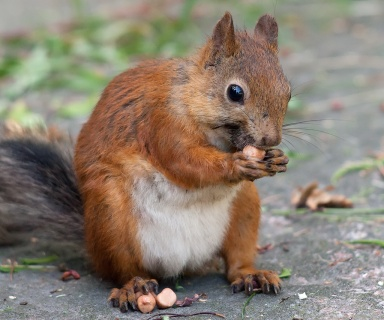Squirrel: (0, 8, 355, 314)
